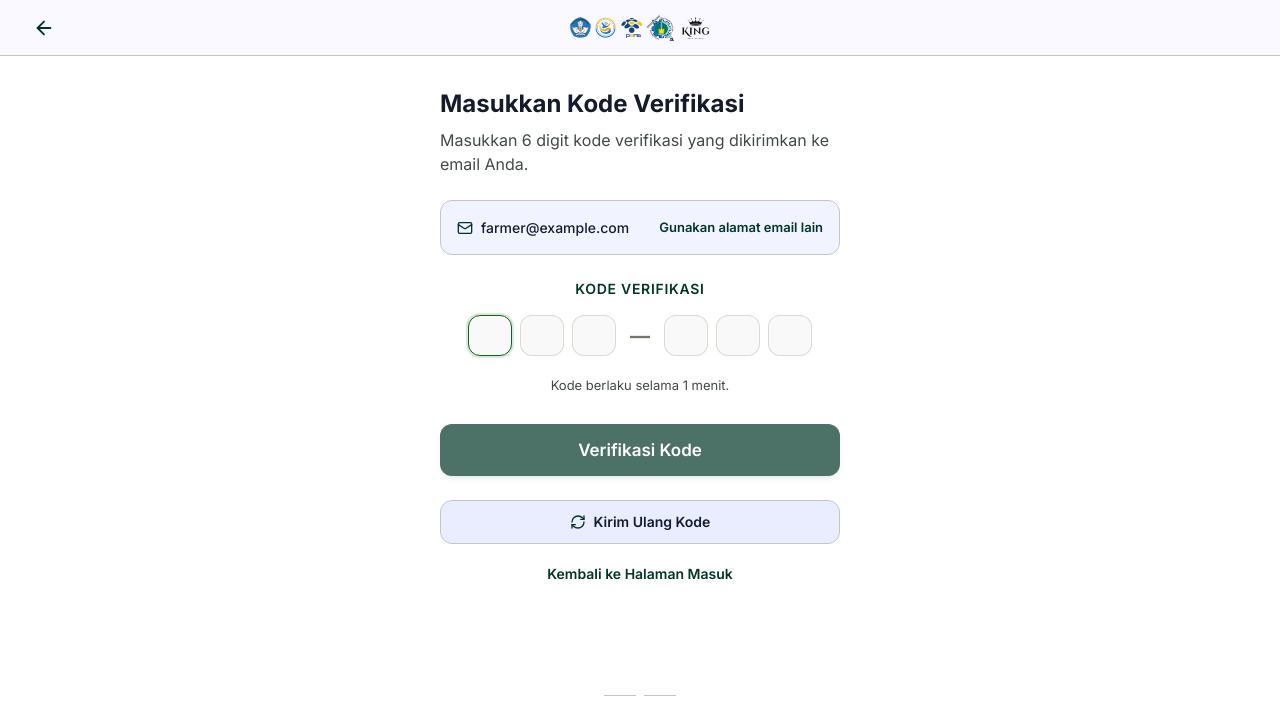
Test: TASK-0214 Verify Email UI Component › 4. User enters 6-digit verification code and successfully verifies email
This screenshot has width=1280, height=720.
Type "849201" into the field labelled "Kode Verifikasi" at (490, 336), box [468,315,512,356]
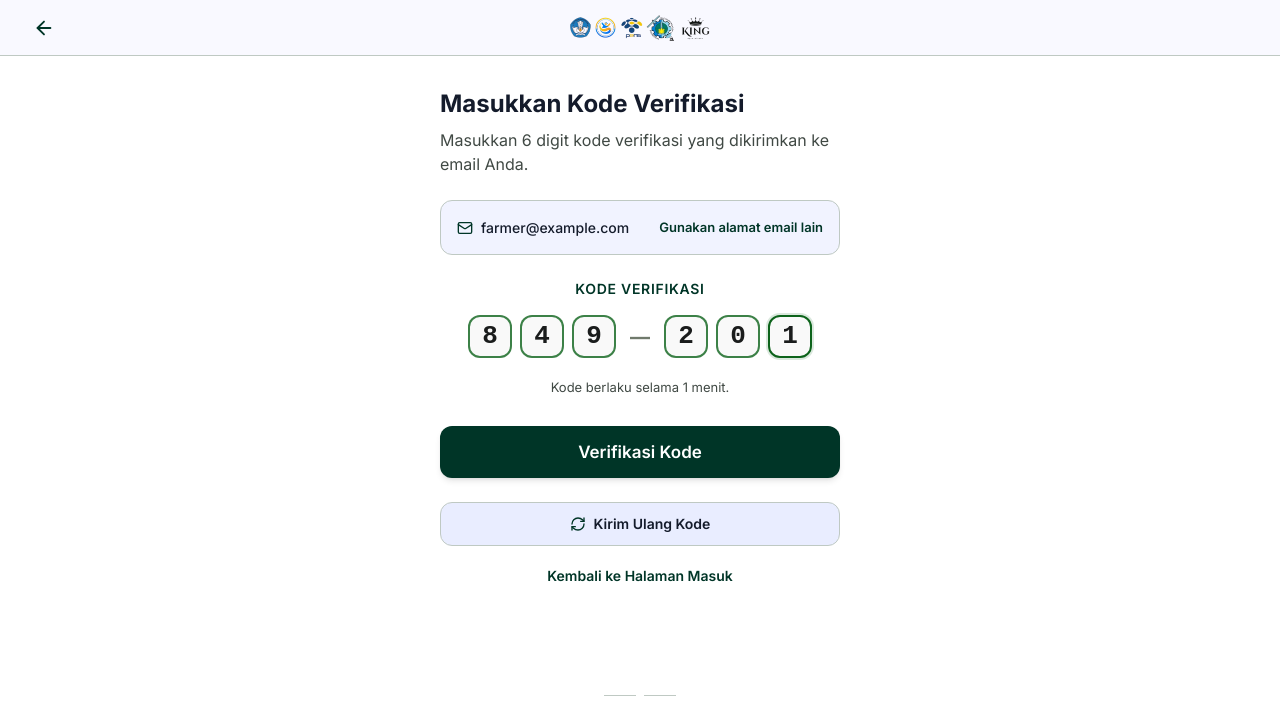
Click the button "Verifikasi Kode" at (640, 452), box [440,426,840,478]
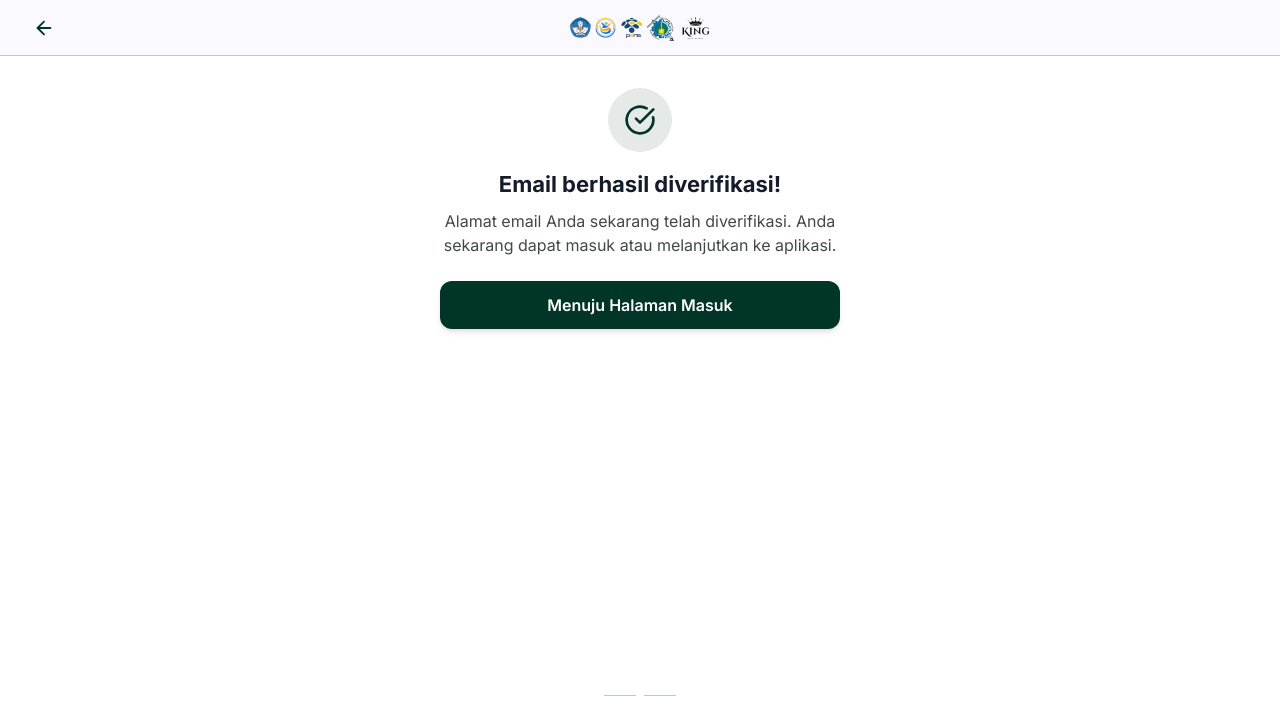
Expected: the heading "Email berhasil diverifikasi!" is shown, [499,168,781,201]
